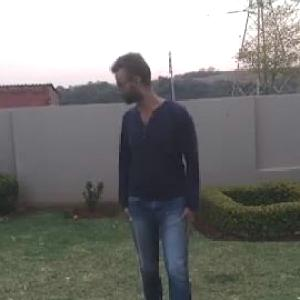follow: (109, 42, 205, 299)
